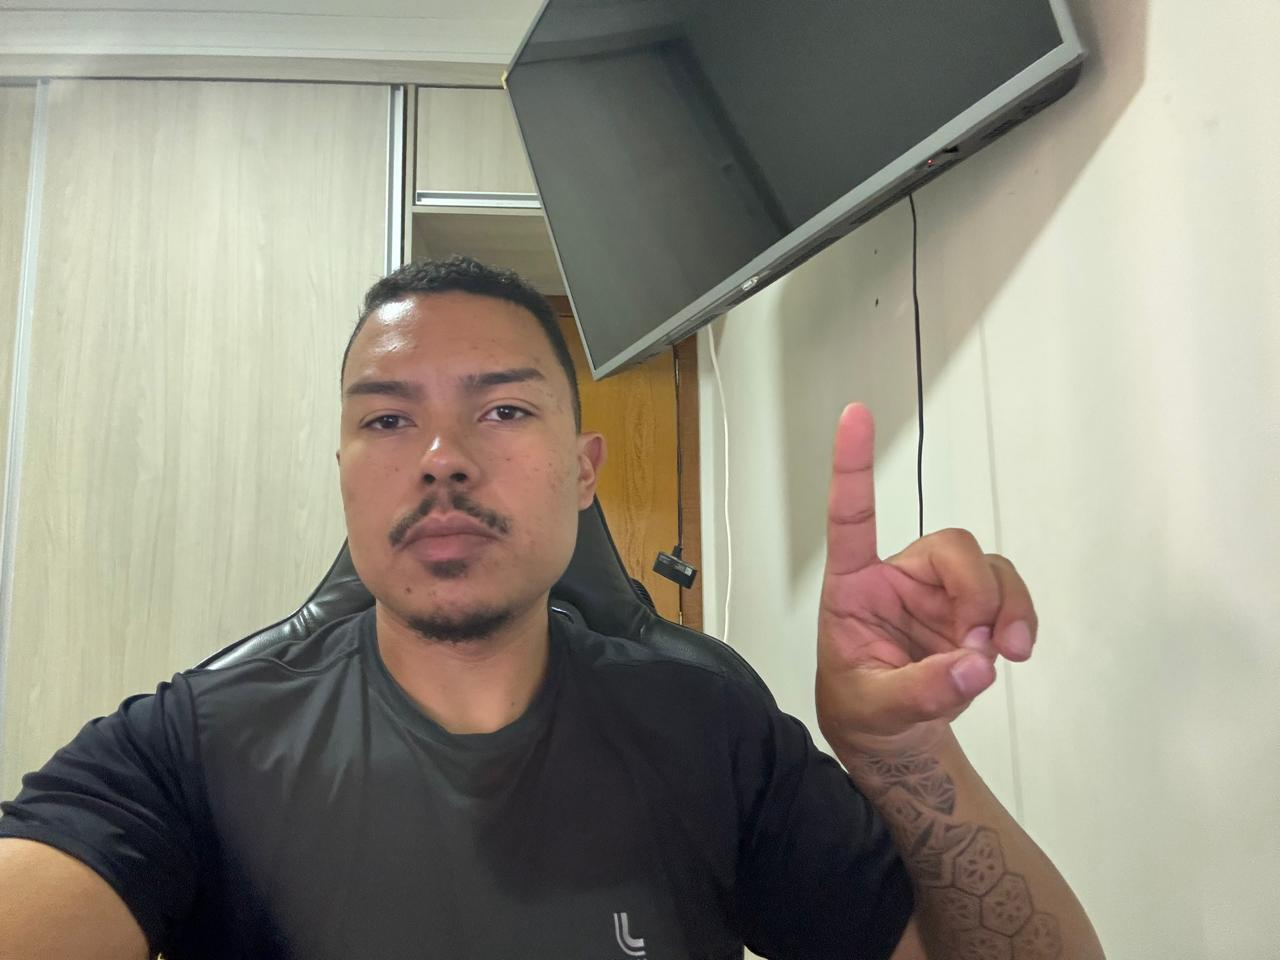d: (809, 386, 1045, 773)
